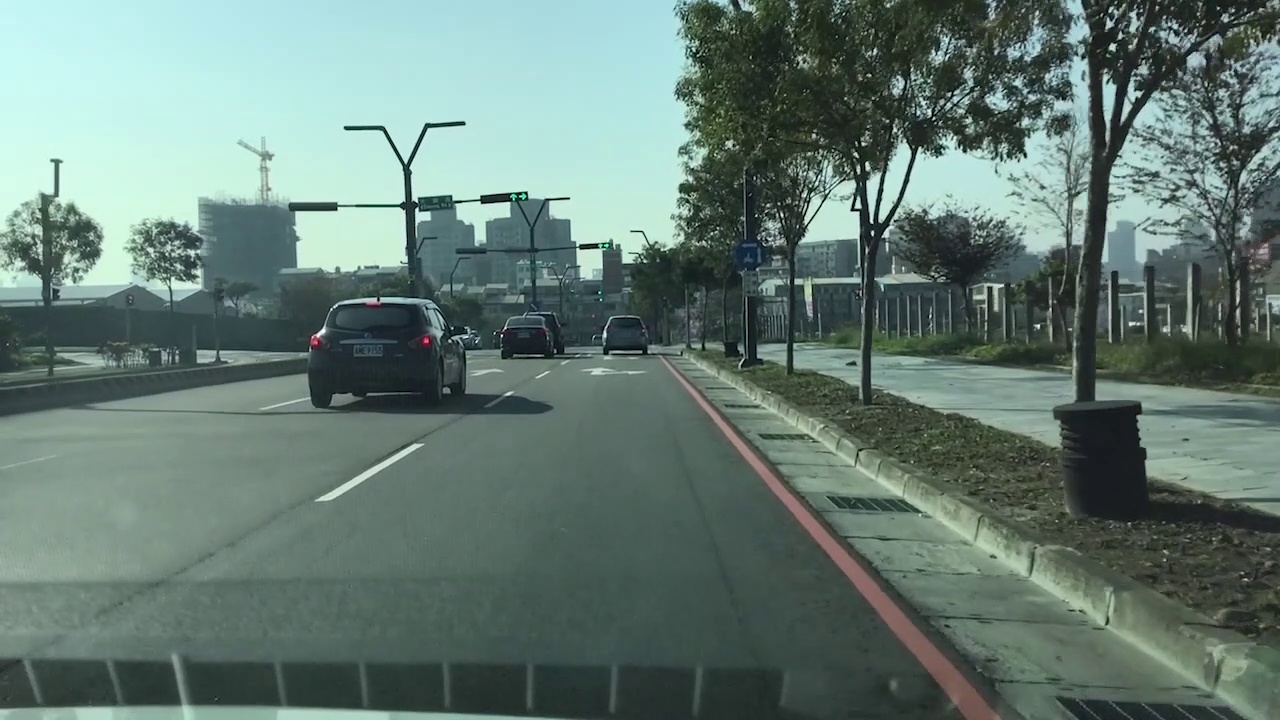Pedestrian_Crossing: (468, 362, 658, 372)
